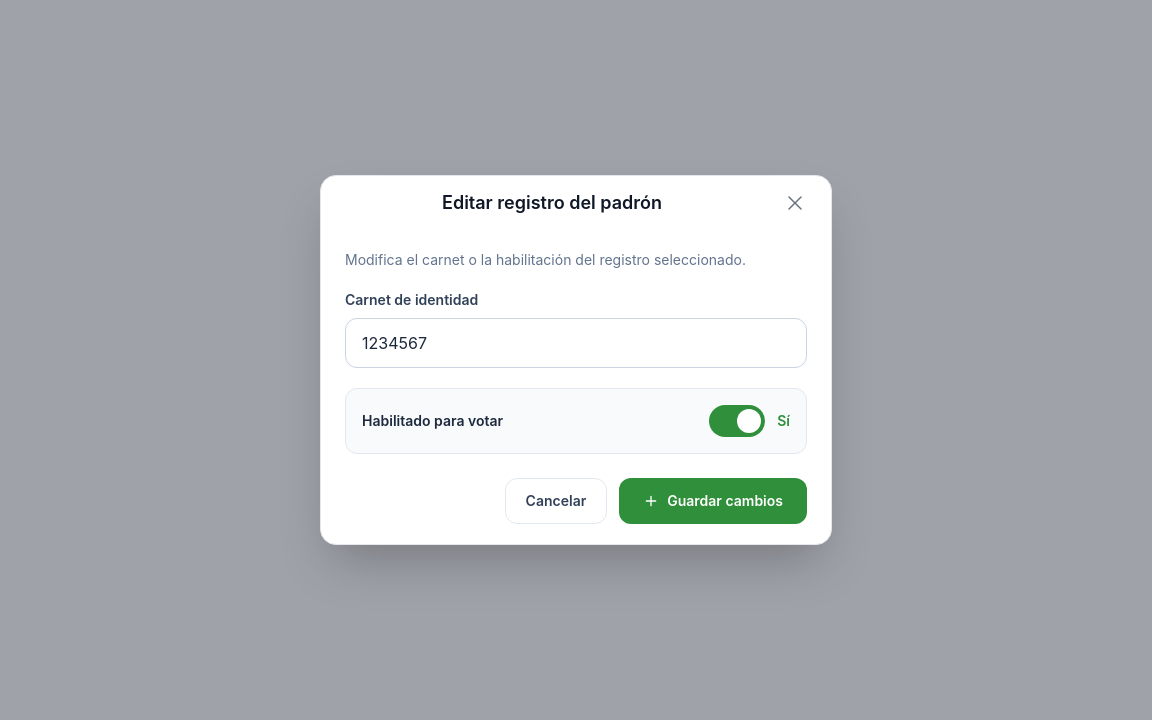
Test: MX-05 | padrón: staging, gestión y permisos › [MX-05][PAD-DUP-P0-002][INTEGRACION] conserva formulario al rechazar un carnet duplicado
Replace the text in the field with "123 4567" at (576, 343), box [345,318,807,368]
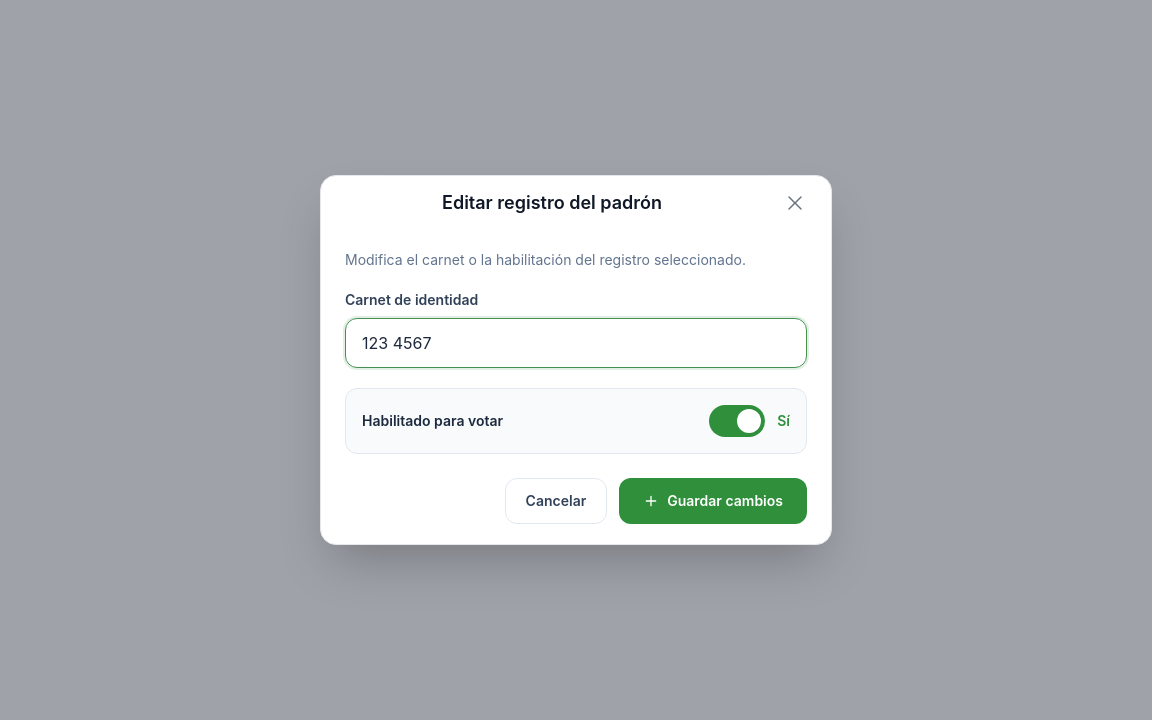
Click the button "Guardar cambios" at (713, 501), box [619,478,807,524]
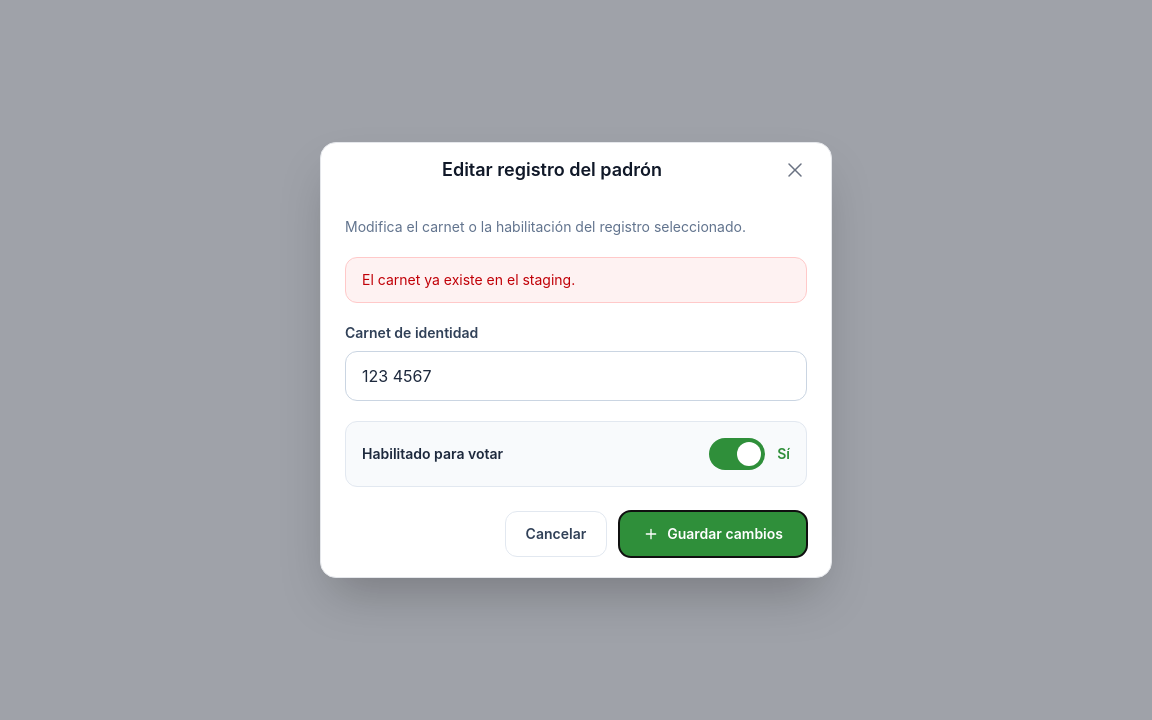
Expected: the text "El carnet ya existe en el staging." is shown, [345,257,807,303]
